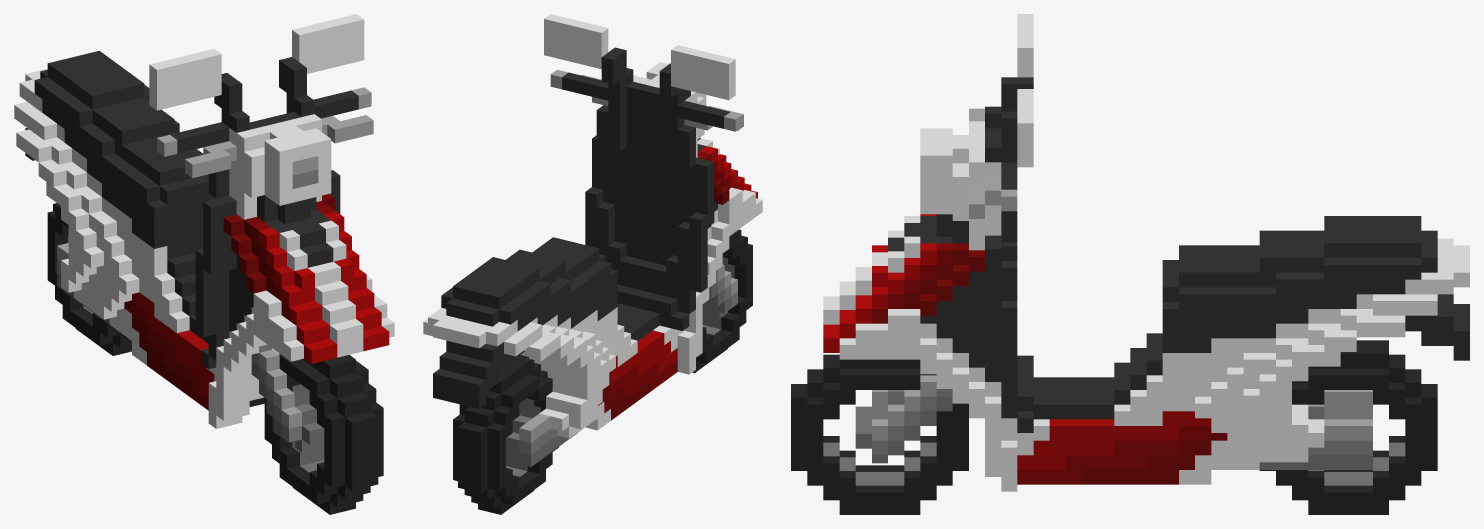
File: scooter.obj
The picture shows the model from 3 angles, left to right: view 1: azimuth 30°, elevation 25°; view 2: azimuth 150°, elevation 25°; view 3: azimuth 270°, elevation 25°; orthographic projection. The views are drawn at different scales.
Size of the model in its own units: 1.6 by 3 by 4.2.
